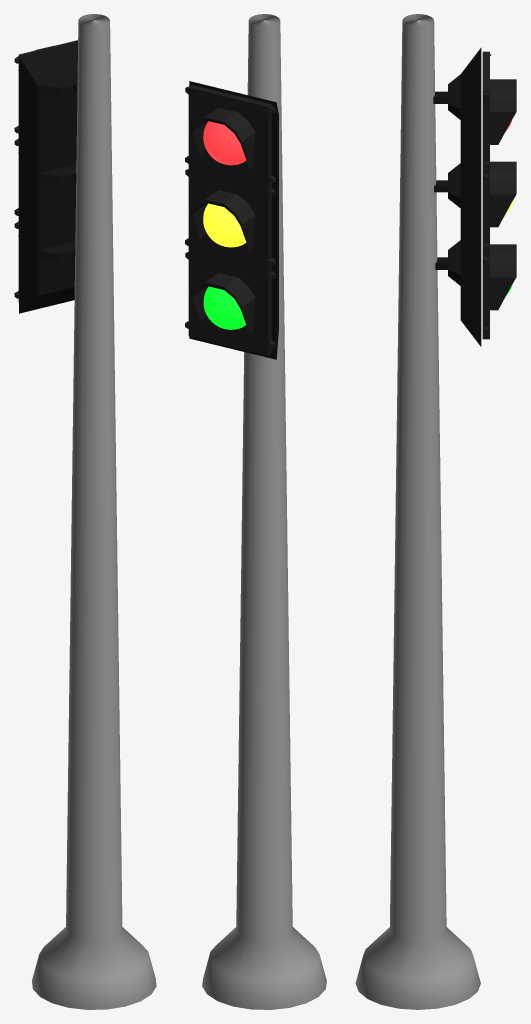
Rendered from TrafficLights.fbx.
3 renders of one model, left to right at view 1: azimuth 30°, elevation 25°; view 2: azimuth 150°, elevation 25°; view 3: azimuth 270°, elevation 25°, orthographic.
Parts seen in each view (by area): view 1: Столб, Крепление светофора; view 2: Столб, Часть с красным светом, Часть с зелёным светом, Часть с жёлтым светом, Крепление светофора, Красный фонарь, Жёлтый фонарь, Зелёный фонарь; view 3: Столб, Крепление светофора, Часть с красным светом, Часть с зелёным светом, Часть с жёлтым светом.
Part boxes in pixels (bbox=[...]): Столб: bbox=[32, 14, 156, 1009]; Крепление светофора: bbox=[19, 42, 77, 313]; Столб: bbox=[202, 14, 326, 1009]; Часть с красным светом: bbox=[185, 85, 275, 190]; Часть с зелёным светом: bbox=[185, 252, 275, 355]; Часть с жёлтым светом: bbox=[185, 169, 275, 272]; Крепление светофора: bbox=[189, 81, 278, 359]; Красный фонарь: bbox=[203, 121, 246, 165]; Жёлтый фонарь: bbox=[203, 203, 246, 247]; Зелёный фонарь: bbox=[203, 286, 245, 329]; Столб: bbox=[355, 14, 480, 1009]; Крепление светофора: bbox=[433, 47, 481, 346]; Часть с красным светом: bbox=[482, 51, 516, 173]; Часть с зелёным светом: bbox=[482, 244, 516, 339]; Часть с жёлтым светом: bbox=[482, 161, 516, 256].
Size of the model in its own units: 123 by 96.17 by 814.
